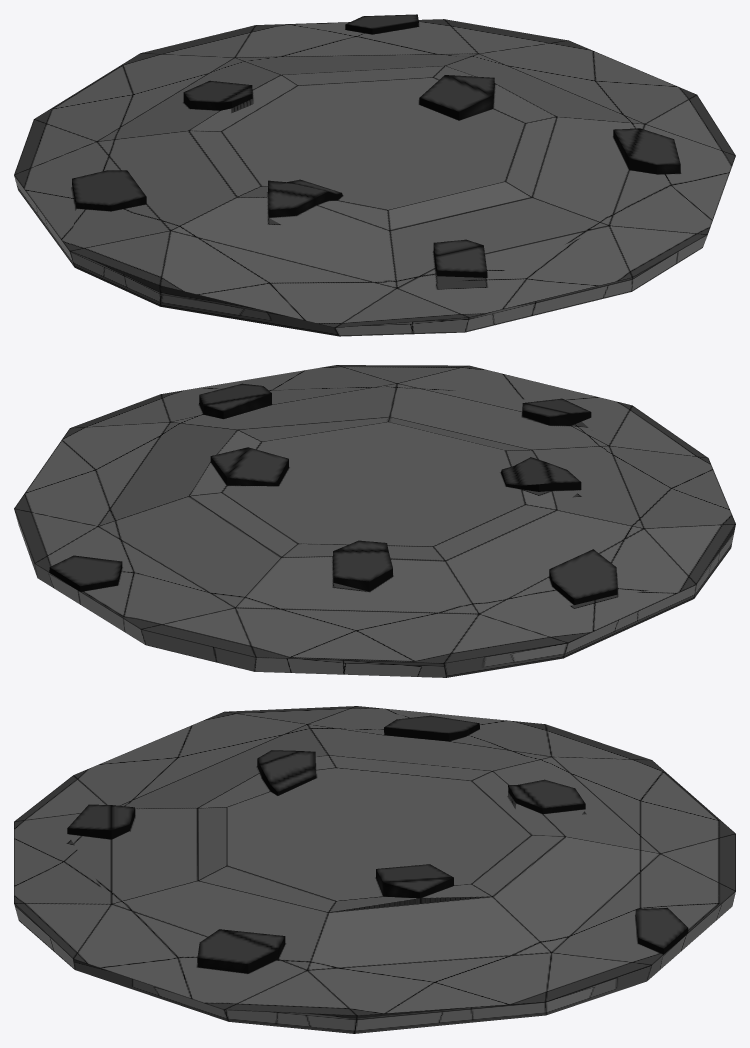
Rendered from cookie.fbx.
The picture shows the model from 3 angles, top to bottom: view 1: azimuth 30°, elevation 25°; view 2: azimuth 150°, elevation 25°; view 3: azimuth 270°, elevation 25°; orthographic projection. The views are drawn at different scales.
Visible parts, largest first — view 1: Cylinder; view 2: Cylinder; view 3: Cylinder.
Boxes of the visible parts, x1,y1,x2,y2 form: Cylinder: [14, 14, 735, 336]; Cylinder: [14, 365, 735, 677]; Cylinder: [14, 706, 735, 1033].
Size of the model in its own units: 2346 by 247 by 2285.
